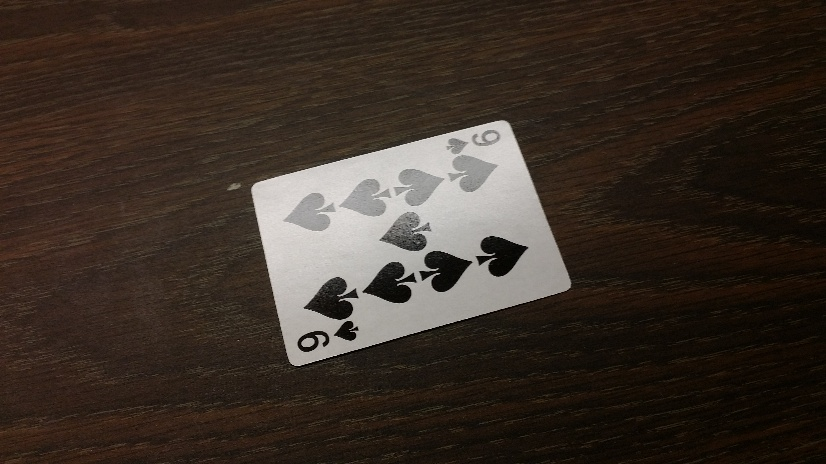S9: (296, 319, 360, 353), (445, 129, 506, 153)
